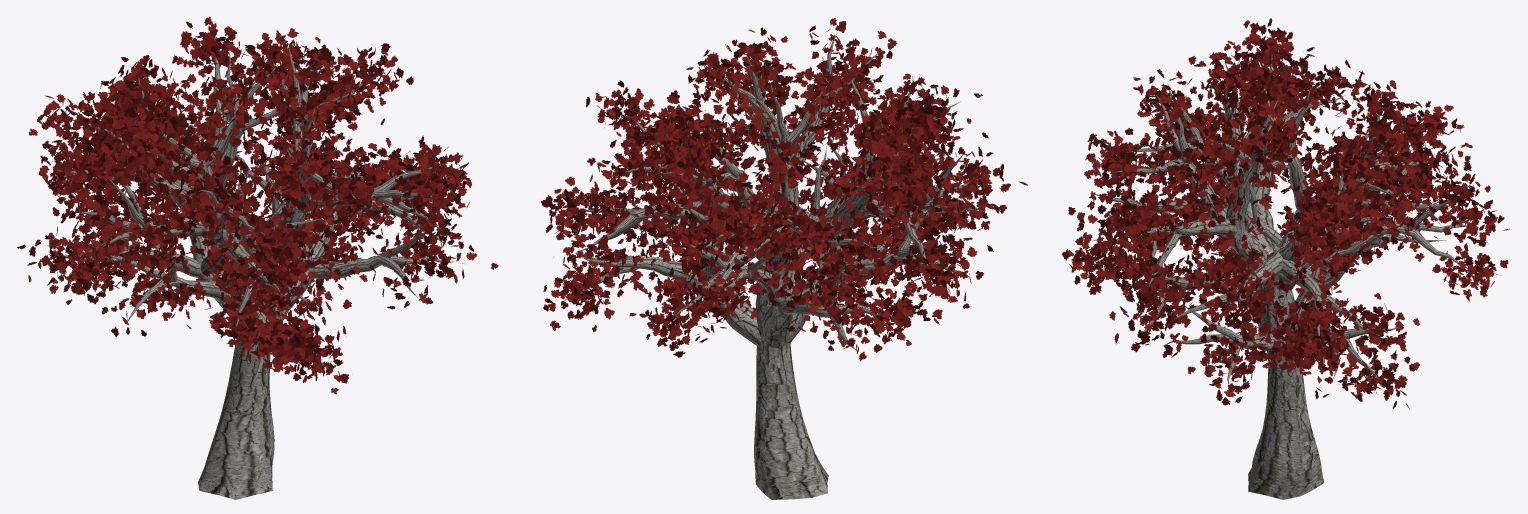
3 renders of one model, left to right at view 1: azimuth 30°, elevation 25°; view 2: azimuth 150°, elevation 25°; view 3: azimuth 270°, elevation 25°, orthographic. The views are drawn at different scales.
Parts seen in each view (by area): view 1: Arce foliage cards, Arce_EasyTree_V021_Proof; view 2: Arce foliage cards, Arce_EasyTree_V021_Proof; view 3: Arce foliage cards, Arce_EasyTree_V021_Proof.
Boxes of the visible parts, box(x1,y1,x2,y2) form: Arce foliage cards: box(17, 17, 498, 394); Arce_EasyTree_V021_Proof: box(47, 36, 454, 499); Arce foliage cards: box(541, 18, 1027, 361); Arce_EasyTree_V021_Proof: box(575, 32, 981, 499); Arce foliage cards: box(1061, 18, 1509, 409); Arce_EasyTree_V021_Proof: box(1091, 55, 1467, 499).
Size of the model in its own units: 7.14 by 6.81 by 6.73.
2 materials, 2 textured.
